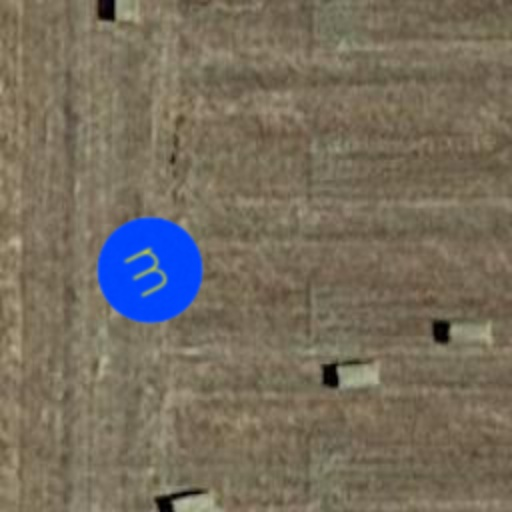circle: (78, 198, 222, 342)
